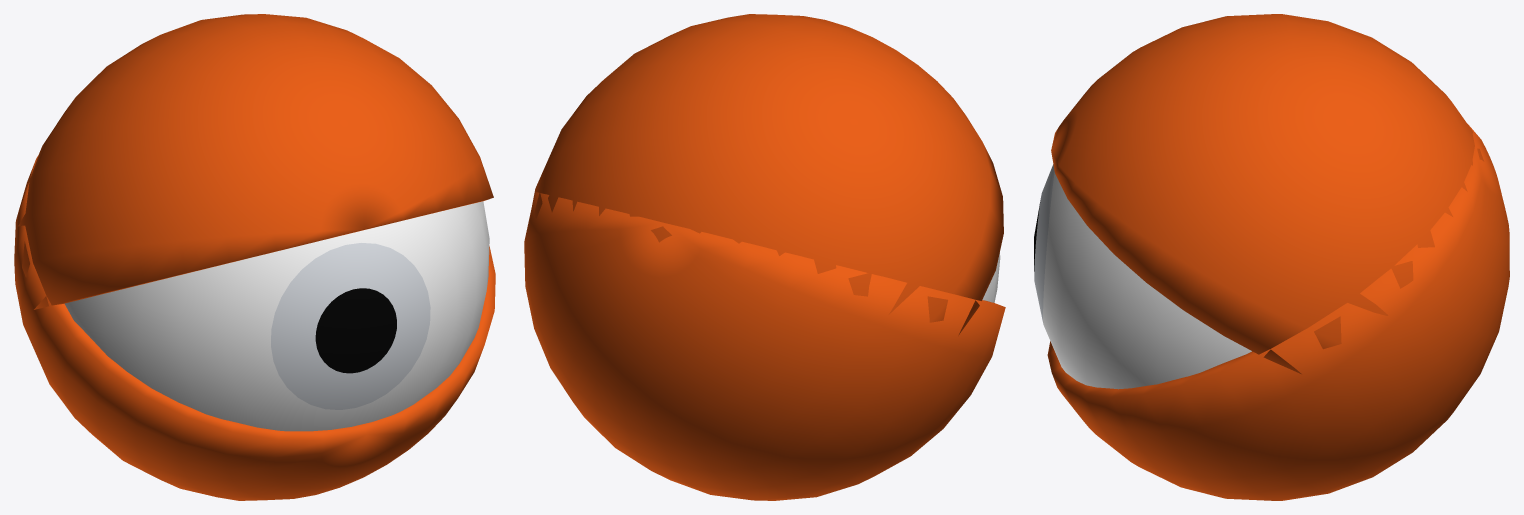
Rendered from eyeball4.fbx.
The picture shows the model from 3 angles, left to right: view 1: azimuth 30°, elevation 25°; view 2: azimuth 150°, elevation 25°; view 3: azimuth 270°, elevation 25°; orthographic projection.
Parts seen in each view (by area): view 1: eyelid top.002, eye.002, eyelid bottom.002; view 2: eyelid bottom.002, eyelid top.002; view 3: eyelid top.002, eyelid bottom.002, eye.002.
Boxes of the visible parts, left/top/right/bottom form: eyelid top.002: left=18, top=14, right=493, bottom=309; eye.002: left=65, top=201, right=489, bottom=431; eyelid bottom.002: left=14, top=154, right=495, bottom=500; eyelid bottom.002: left=524, top=192, right=1005, bottom=500; eyelid top.002: left=528, top=14, right=1003, bottom=335; eyelid top.002: left=1051, top=14, right=1484, bottom=374; eyelid bottom.002: left=1047, top=124, right=1509, bottom=500; eye.002: left=1034, top=164, right=1251, bottom=389.
Size of the model in its own units: 303 by 303 by 296.
